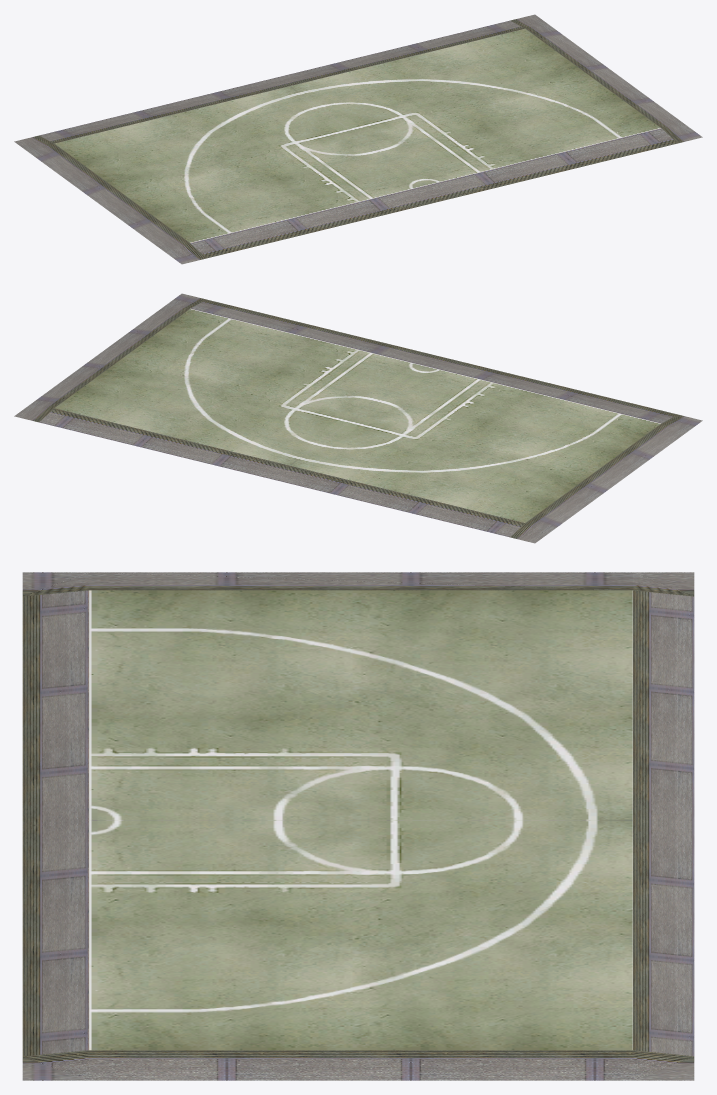
File: BaseBallCourt_01.fbx
3 renders of one model, top to bottom at view 1: azimuth 30°, elevation 25°; view 2: azimuth 150°, elevation 25°; view 3: azimuth 270°, elevation 25°, orthographic. The views are drawn at different scales.
Visible parts, largest first — view 1: BaseBallCourt_01; view 2: BaseBallCourt_01; view 3: BaseBallCourt_01.
Part boxes in pixels (left/top/right/bottom): BaseBallCourt_01: left=14, top=14, right=702, bottom=264; BaseBallCourt_01: left=14, top=293, right=702, bottom=543; BaseBallCourt_01: left=22, top=572, right=694, bottom=1080.
Bounding box in the file's own units: 1394 × 7.89 × 778.
